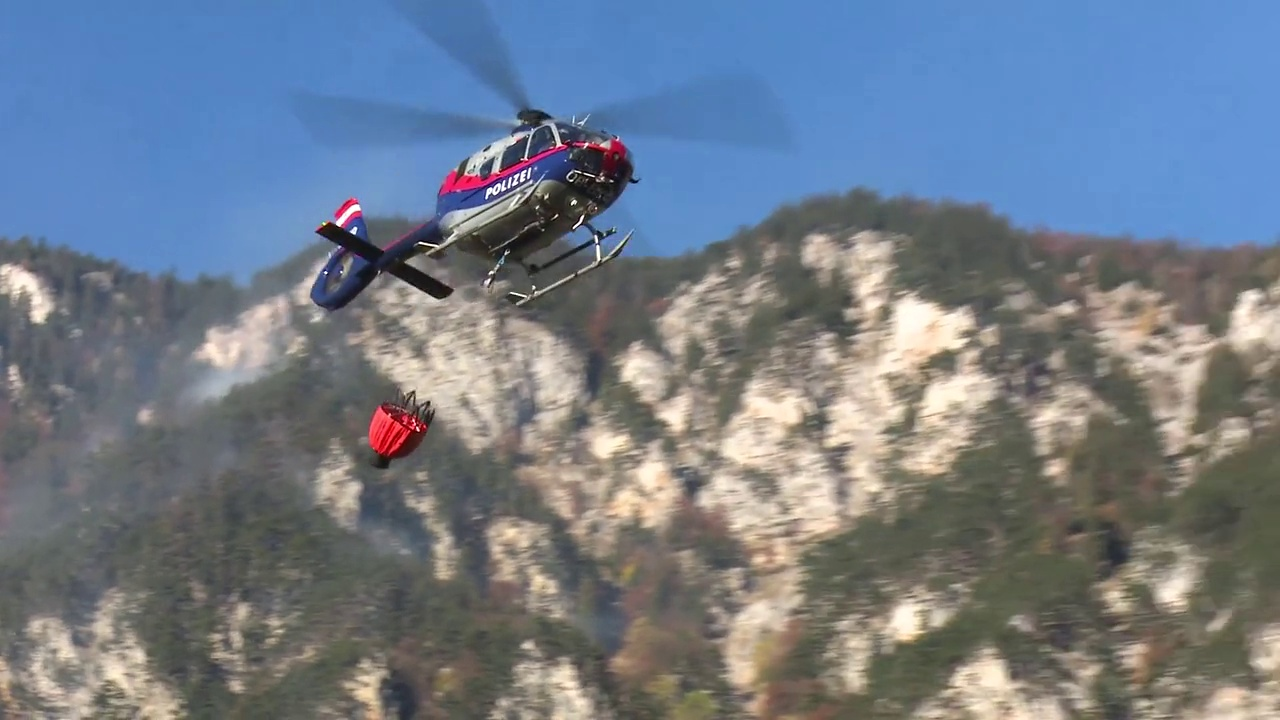heli: (306, 1, 785, 313)
